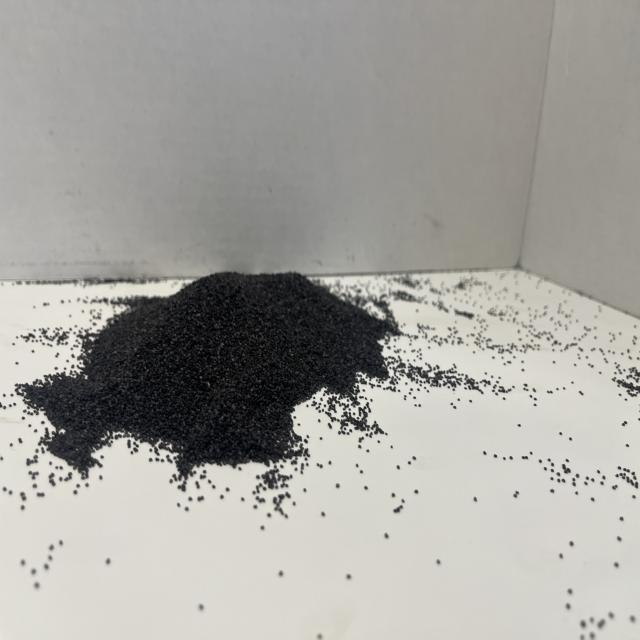Poppy Seeds: (25, 236, 399, 519)
